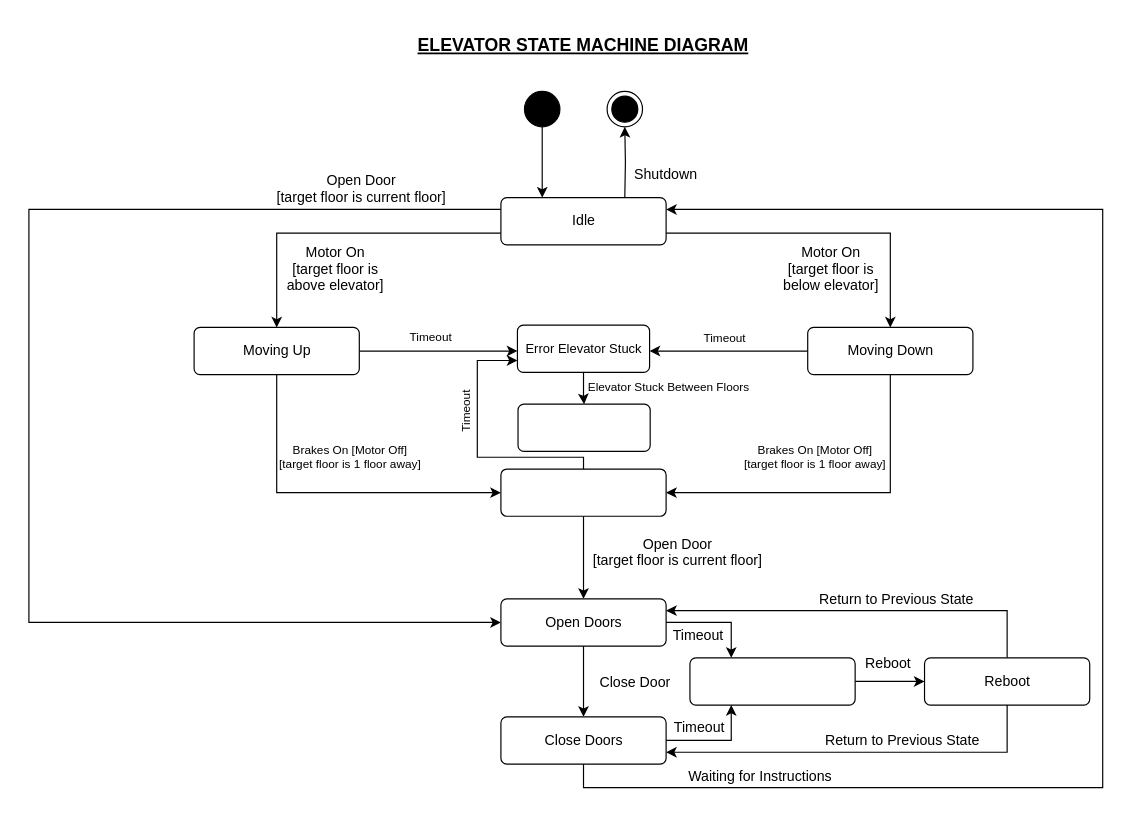
Image size: 1133x819. Some labels were removed from this diagram. Here are the shapes that lost their labels. From the top down, the centre of each, then its label:
At [583,427]: "Dead".
At [583,492]: "Stop".
At [772,681]: "Error Door Stuck".
